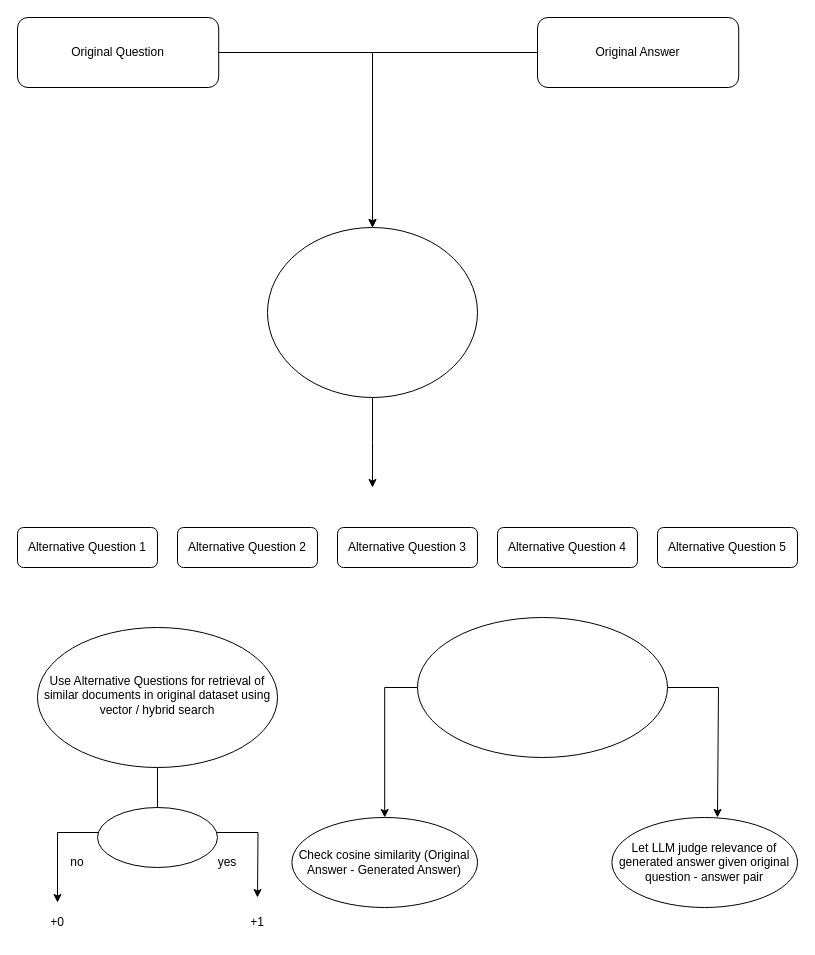
Image size: 815x955. Some labels were removed from this diagram. Here are the shapes that lost their labels. From the top down, the box of each, then its label:
(266, 226, 478, 398): Prompt LLM for alternative ways to ask the Question, given the answer & category
(416, 616, 668, 758): Use Alternative Questions as queries for the RAG for generating answers
(96, 806, 218, 868): relevant ID in retrieved documents
